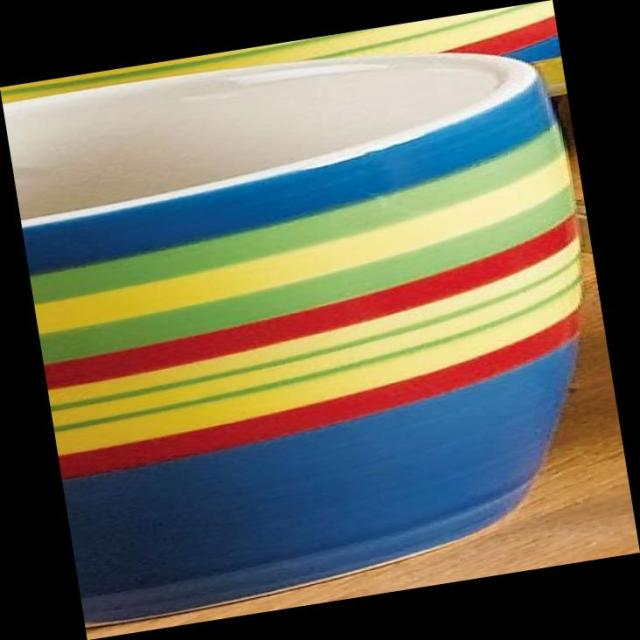cup: (0, 0, 637, 640)
